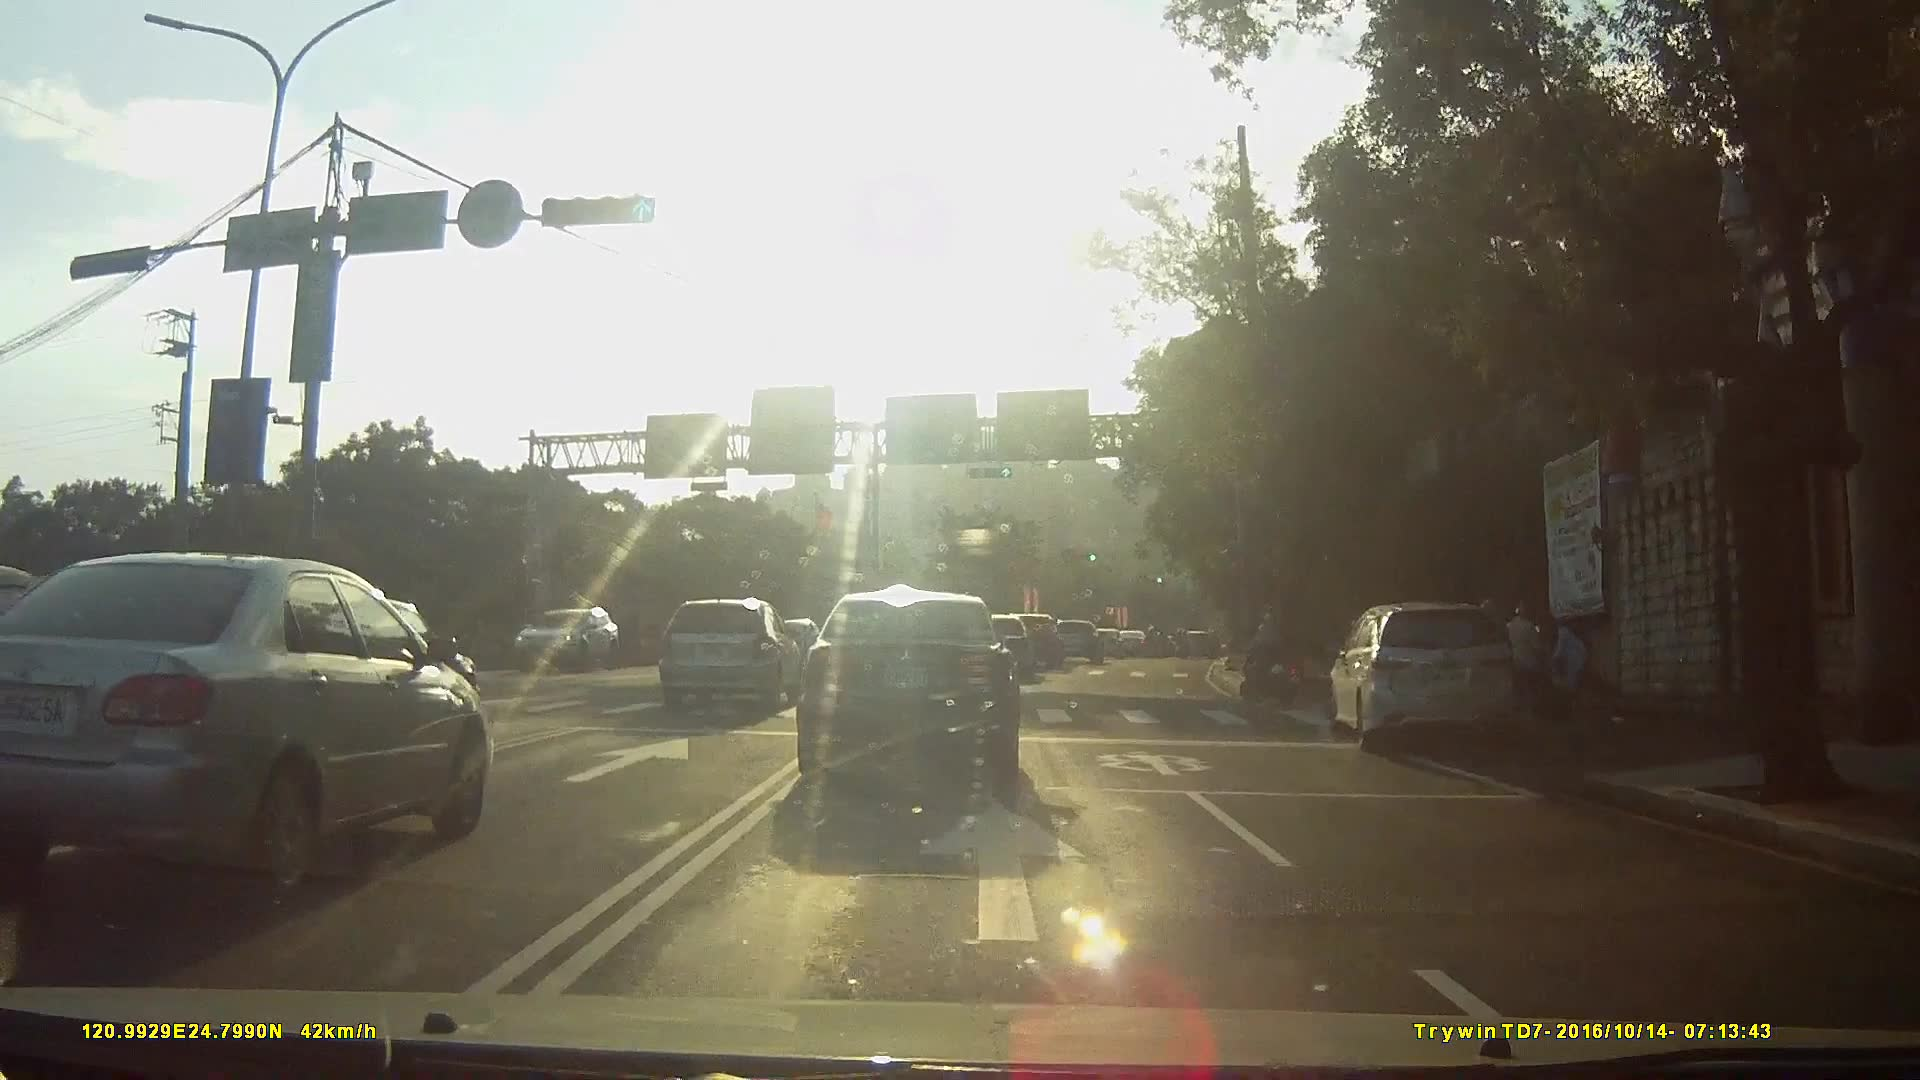pedestrian: (1509, 603, 1539, 718), (1548, 618, 1588, 703)
rider: (1235, 611, 1302, 701)
vehicle: (0, 550, 498, 903), (796, 591, 1044, 811), (256, 591, 484, 747), (1318, 600, 1532, 763), (659, 597, 808, 716), (507, 600, 630, 676), (971, 614, 1045, 684), (1010, 610, 1072, 668), (1058, 618, 1113, 664), (1092, 626, 1131, 658), (1122, 630, 1152, 658)
